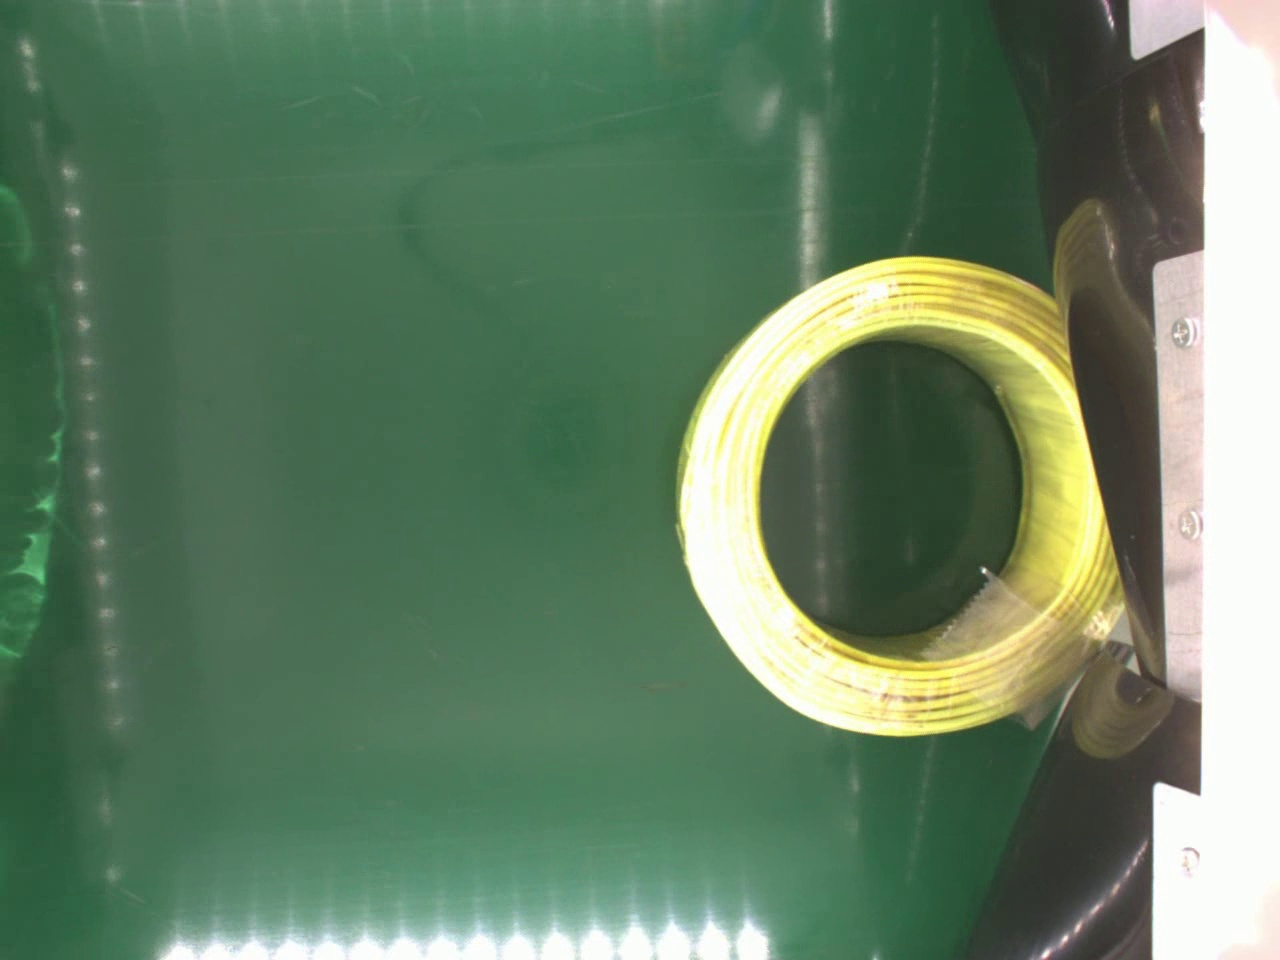yellow: (665, 250, 1122, 734)
